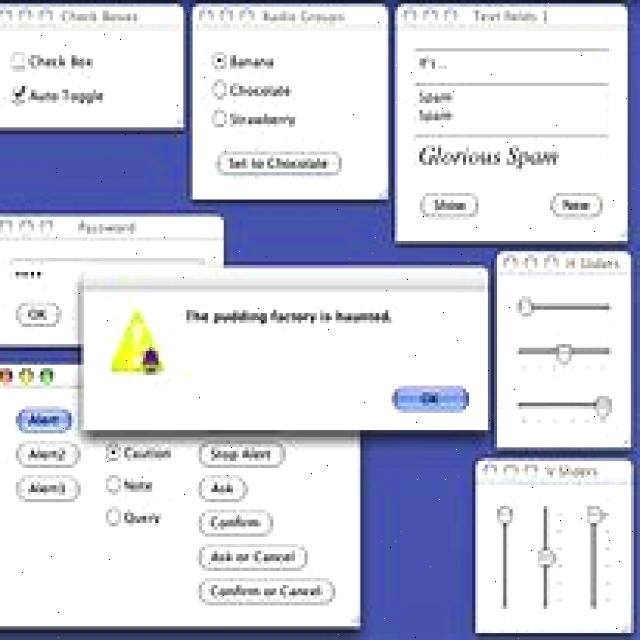button: (195, 575, 336, 607), (195, 540, 308, 572), (216, 151, 347, 176), (195, 438, 289, 470), (388, 380, 472, 415), (196, 509, 277, 539), (13, 472, 86, 505), (417, 188, 484, 220), (13, 440, 82, 469), (13, 402, 75, 434), (195, 474, 253, 504), (13, 299, 66, 331), (547, 188, 605, 217), (537, 250, 562, 277), (498, 456, 524, 480), (34, 2, 59, 26), (18, 360, 37, 391), (13, 4, 37, 27), (435, 4, 461, 24), (36, 365, 57, 388), (519, 250, 540, 273), (234, 4, 258, 24), (397, 2, 417, 25), (476, 458, 499, 478), (18, 217, 38, 239), (499, 250, 518, 270), (0, 361, 15, 386), (216, 3, 233, 25), (522, 459, 539, 481), (42, 214, 56, 240), (194, 5, 214, 23), (423, 3, 438, 27), (1, 215, 13, 234), (0, 3, 12, 22)
icon: (104, 294, 178, 387)
input: (412, 81, 611, 128), (412, 133, 611, 175), (412, 46, 610, 76), (6, 254, 78, 290)
label: (179, 305, 398, 329), (29, 86, 107, 109), (74, 217, 148, 238), (259, 9, 347, 25), (28, 51, 96, 71), (472, 9, 552, 25), (229, 112, 299, 130), (229, 80, 295, 97), (61, 9, 141, 23), (564, 255, 624, 272), (543, 464, 604, 480), (229, 53, 275, 71), (124, 446, 171, 462), (123, 508, 162, 526), (124, 476, 155, 495)
radio: (9, 82, 26, 108), (8, 49, 28, 71), (104, 441, 122, 462), (210, 106, 227, 128), (211, 50, 227, 72), (212, 78, 228, 100), (105, 474, 121, 496), (105, 505, 121, 527)
slider: (580, 503, 618, 612), (534, 502, 570, 612), (511, 338, 616, 373), (510, 397, 619, 426), (510, 292, 618, 319), (492, 498, 516, 613)
